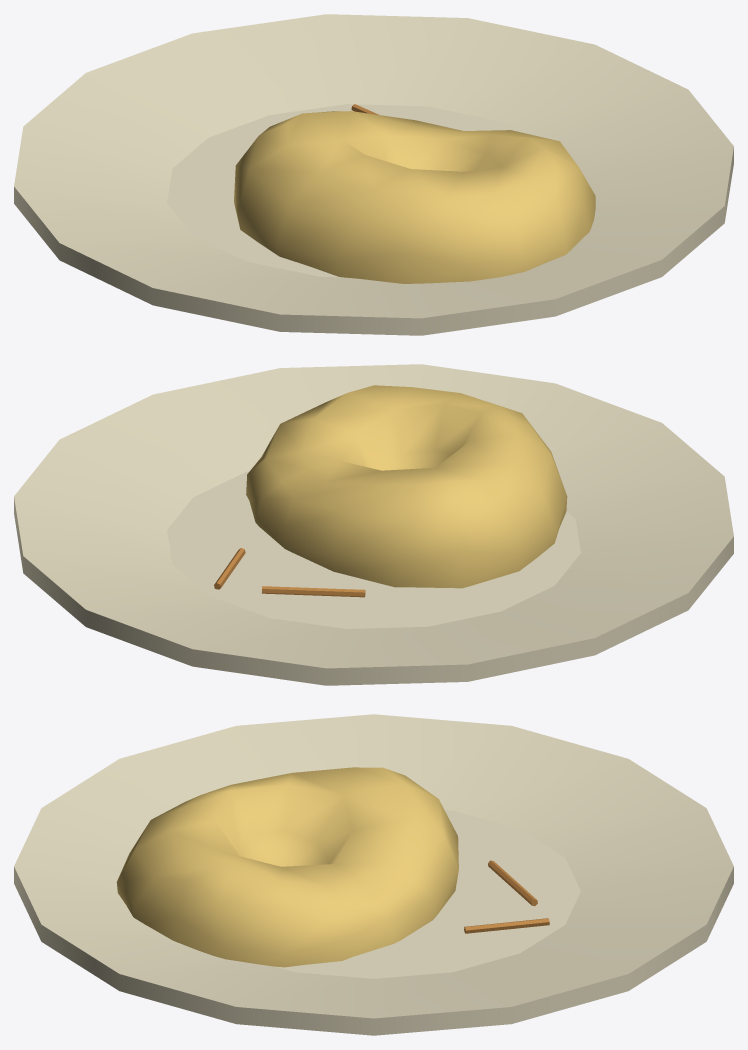
The model's file is SainteMaureButchered.fbx.
3 renders of one model, top to bottom at view 1: azimuth 30°, elevation 25°; view 2: azimuth 150°, elevation 25°; view 3: azimuth 270°, elevation 25°, orthographic.
Parts seen in each view (by area): view 1: Sainte_Maure_Butchered; view 2: Sainte_Maure_Butchered; view 3: Sainte_Maure_Butchered.
Part boxes in pixels (x1,y1,x2,y2): Sainte_Maure_Butchered: (14, 14, 733, 335); Sainte_Maure_Butchered: (14, 364, 733, 685); Sainte_Maure_Butchered: (14, 714, 733, 1035).
Size of the model in its own units: 0.6488 by 0.6488 by 0.1203.
